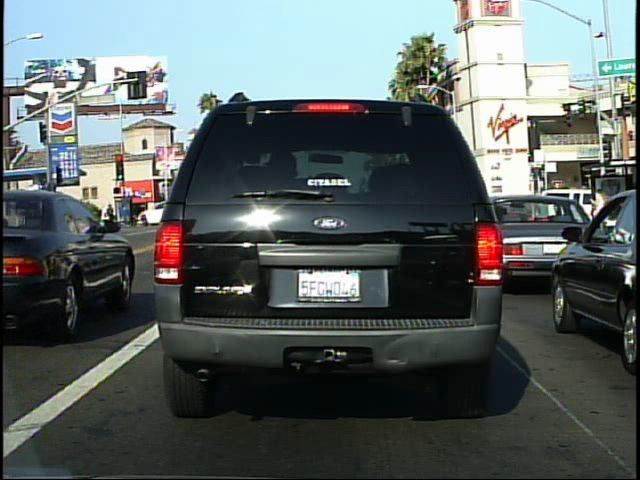person: (587, 184, 609, 243), (102, 199, 118, 233)
